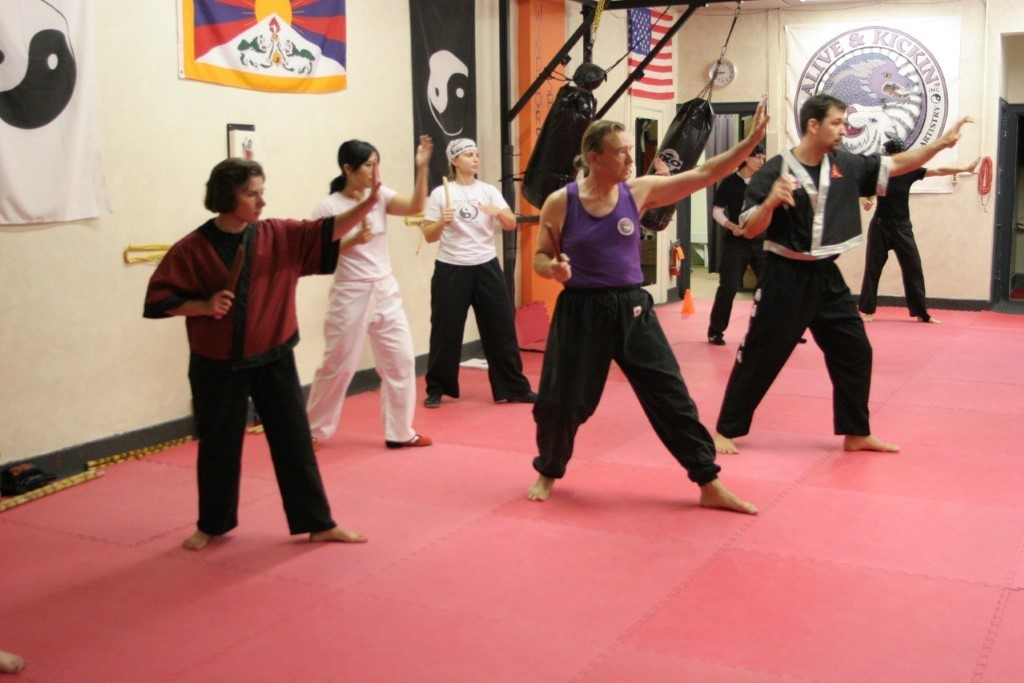baston_e: (0, 472, 98, 513), (89, 433, 187, 467), (2, 469, 88, 504), (96, 440, 186, 470), (222, 253, 248, 293), (543, 228, 563, 260), (441, 178, 450, 206)
baston_v: (236, 240, 253, 257), (543, 219, 555, 230), (79, 458, 91, 468), (96, 469, 109, 478), (186, 431, 195, 439), (439, 174, 448, 181)
